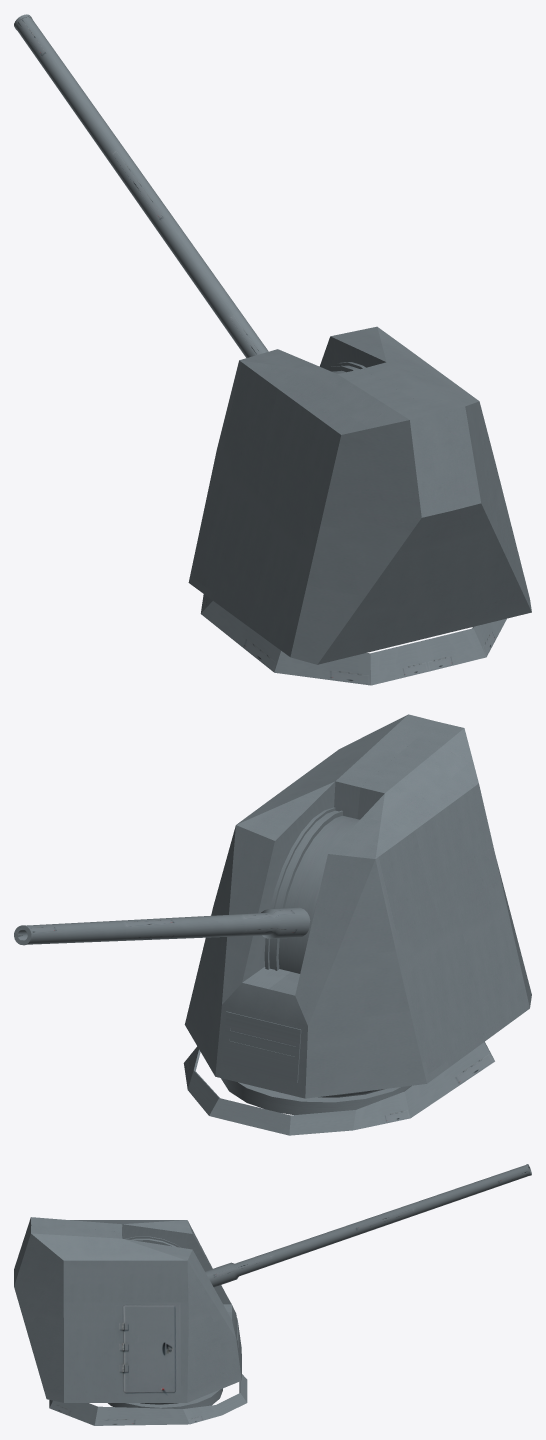
The model's file is Mk45Mod4.fbx.
The picture shows the model from 3 angles, top to bottom: view 1: azimuth 30°, elevation 25°; view 2: azimuth 150°, elevation 25°; view 3: azimuth 270°, elevation 25°; orthographic projection. The views are drawn at different scales.
Visible parts, largest first — view 1: Battery, Barrel, BatteryBase1; view 2: Battery, BatteryBase1, Barrel, Grate, BarrelRotator, polySurface2; view 3: Battery, Barrel, BatteryBase1.
Boxes of the visible parts, x1=… form: Battery: x1=188, y1=326, x2=531, y2=664; Barrel: x1=14, y1=14, x2=268, y2=357; BatteryBase1: x1=200, y1=594, x2=506, y2=685; Battery: x1=184, y1=714, x2=531, y2=1098; BatteryBase1: x1=183, y1=1042, x2=494, y2=1135; Barrel: x1=14, y1=907, x2=310, y2=945; Grate: x1=222, y1=1011, x2=301, y2=1082; BarrelRotator: x1=278, y1=815, x2=359, y2=973; polySurface2: x1=264, y1=807, x2=342, y2=970; Battery: x1=14, y1=1217, x2=241, y2=1402; Barrel: x1=205, y1=1164, x2=531, y2=1287; BatteryBase1: x1=49, y1=1374, x2=247, y2=1425.
Size of the model in its own units: 7.31 by 10.6 by 22.22.
Materials: 1 (1 with a texture image).
